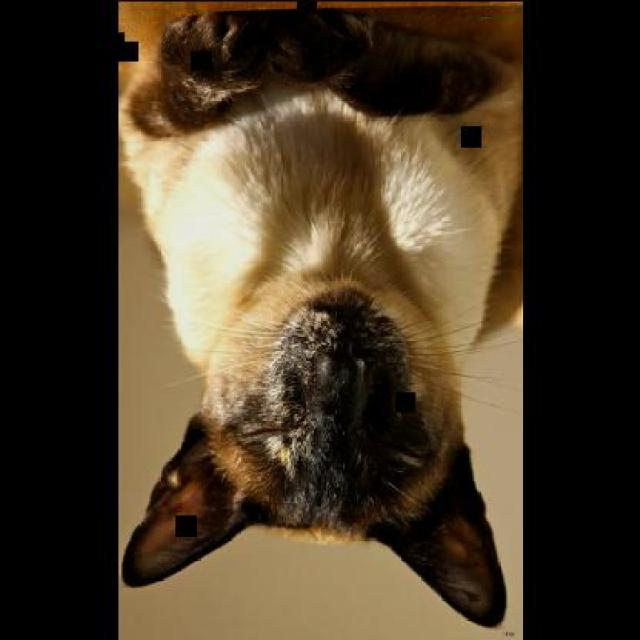unauthorized: (119, 6, 522, 628)
